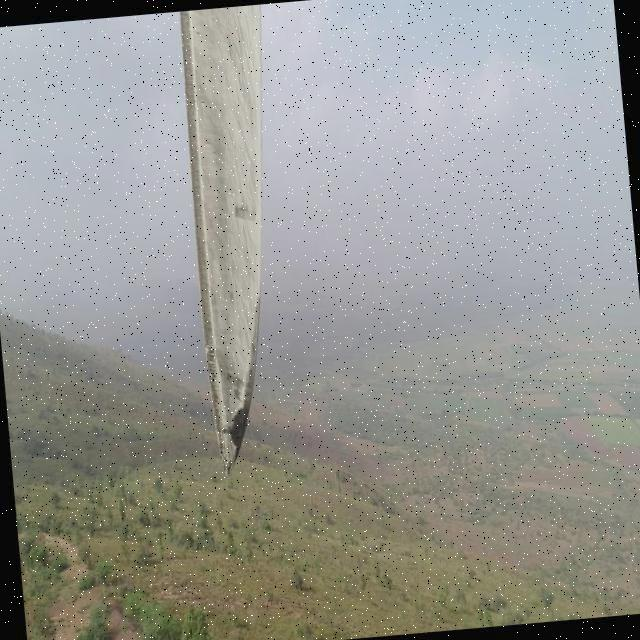Dirt: (184, 0, 262, 468)
Oil LEAKAGE: (228, 304, 260, 468)
Pin Hole: (220, 423, 229, 440)
